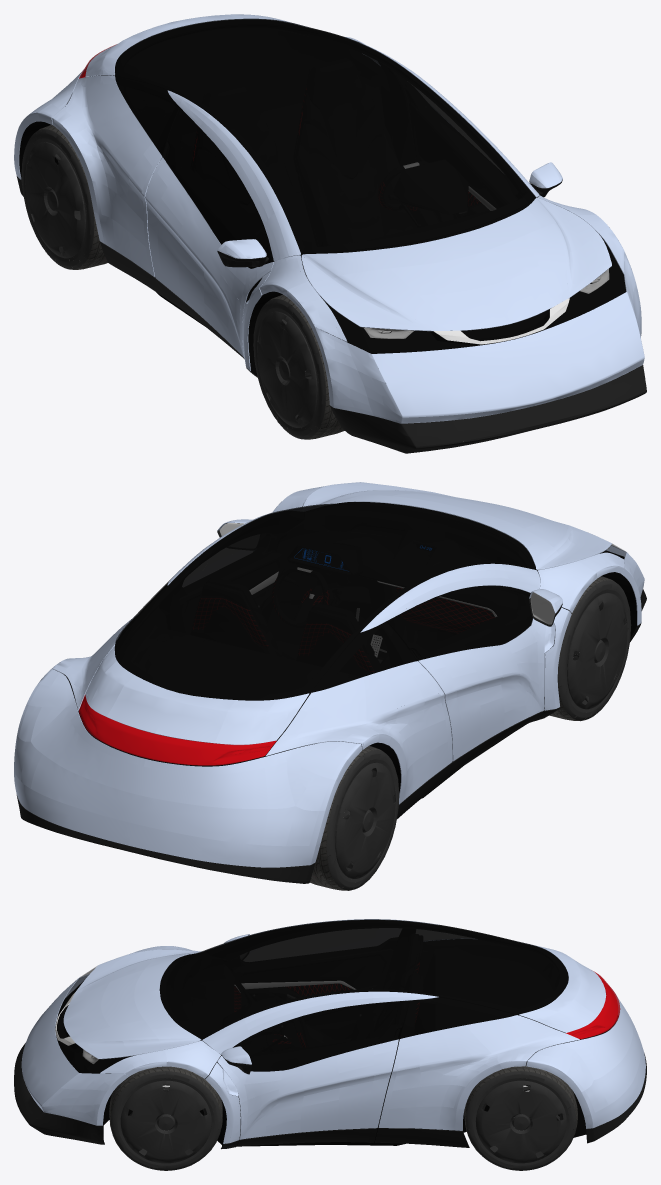
Rendered from concept-011.glb.
3 views of the same model, one above another, from view 1: azimuth 30°, elevation 25°; view 2: azimuth 150°, elevation 25°; view 3: azimuth 270°, elevation 25° (orthographic). The views are drawn at different scales.
Parts seen in each view (by area): view 1: body, door-right-mesh, door-left-mesh, wheel-front-right-mesh, wheel-back-right-mesh; view 2: body, door-right-mesh, door-left-mesh, wheel-back-right-mesh, wheel-front-right-mesh; view 3: body, door-left-mesh, door-right-mesh, wheel-front-left-mesh, wheel-back-left-mesh.
Boxes of the visible parts, <box> form: body: <box>14,14,646,453</box>; door-right-mesh: <box>145,107,274,358</box>; door-left-mesh: <box>405,82,562,218</box>; wheel-front-right-mesh: <box>253,295,344,439</box>; wheel-back-right-mesh: <box>21,125,107,269</box>; body: <box>14,482,646,883</box>; door-right-mesh: <box>387,585,562,781</box>; door-left-mesh: <box>180,519,283,634</box>; wheel-back-right-mesh: <box>310,746,399,890</box>; wheel-front-right-mesh: <box>549,576,631,721</box>; body: <box>14,919,646,1163</box>; door-left-mesh: <box>217,1000,409,1146</box>; door-right-mesh: <box>224,928,401,1039</box>; wheel-front-left-mesh: <box>109,1066,222,1170</box>; wheel-back-left-mesh: <box>464,1066,577,1170</box>.
Size of the model in its own units: 2.06 by 1.26 by 4.36.
Materials: 22 (2 with a texture image).
